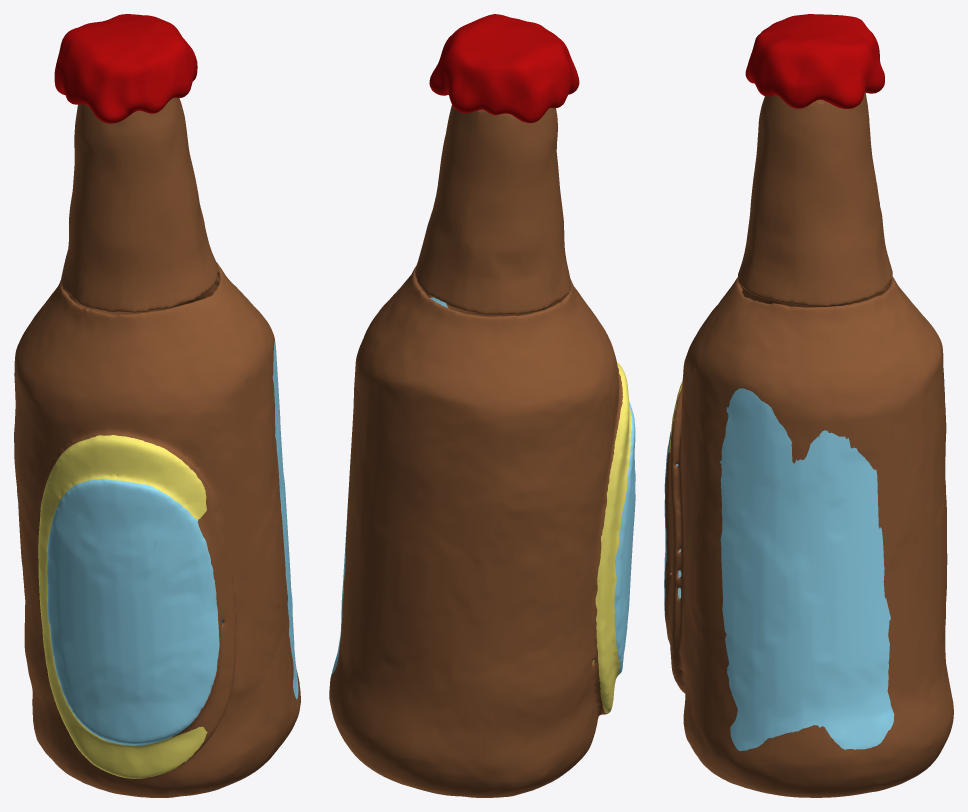
File: Stack 1A - Beer.glb
The picture shows the model from 3 angles, left to right: view 1: azimuth 30°, elevation 25°; view 2: azimuth 150°, elevation 25°; view 3: azimuth 270°, elevation 25°; orthographic projection.
Parts seen in each view (by area): view 1: Stack 1A - Beer · part 1, Stack 1A - Beer · part 2, Stack 1A - Beer · part 3; view 2: Stack 1A - Beer · part 1, Stack 1A - Beer · part 2, Stack 1A - Beer · part 3; view 3: Stack 1A - Beer · part 1, Stack 1A - Beer · part 2, Stack 1A - Beer · part 3.
Boxes of the visible parts, bbox=[...] form: Stack 1A - Beer · part 1: bbox=[14, 262, 300, 797]; Stack 1A - Beer · part 2: bbox=[61, 97, 218, 312]; Stack 1A - Beer · part 3: bbox=[54, 14, 197, 123]; Stack 1A - Beer · part 1: bbox=[329, 266, 635, 797]; Stack 1A - Beer · part 2: bbox=[415, 105, 571, 314]; Stack 1A - Beer · part 3: bbox=[429, 14, 579, 123]; Stack 1A - Beer · part 1: bbox=[664, 277, 953, 797]; Stack 1A - Beer · part 2: bbox=[738, 92, 892, 306]; Stack 1A - Beer · part 3: bbox=[745, 14, 884, 108].
Bounding box in the file's own units: 0.3619 × 1 × 0.3608.
